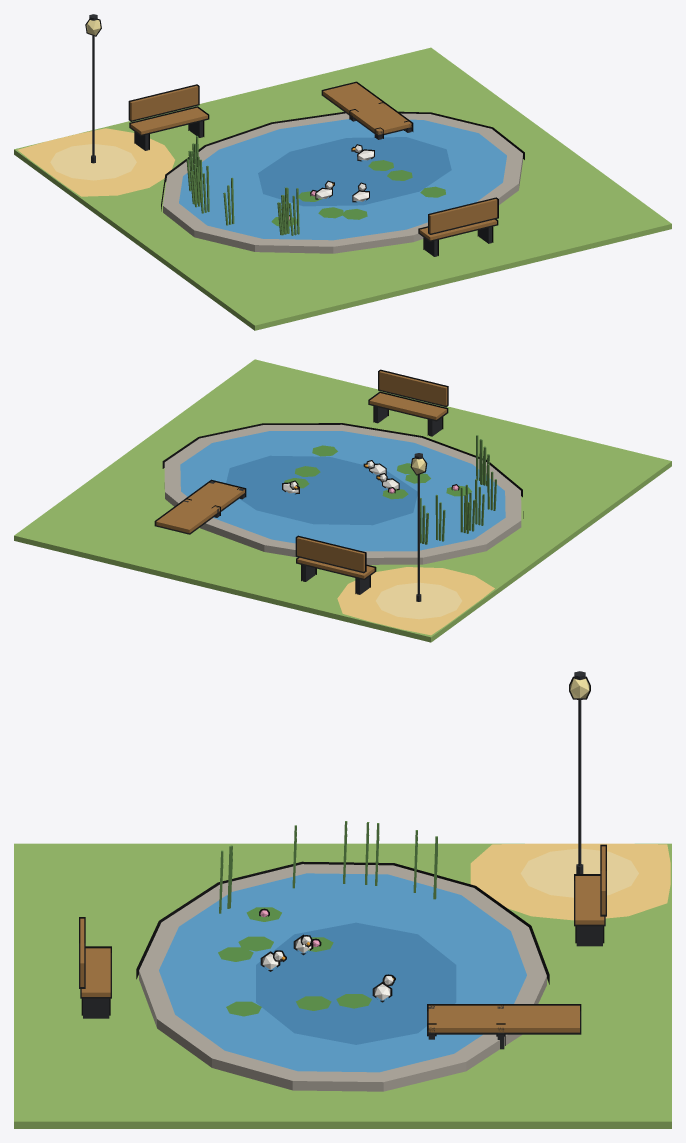
The model's file is Park_gol.fbx.
3 views of the same model, one above another, from view 1: azimuth 30°, elevation 25°; view 2: azimuth 150°, elevation 25°; view 3: azimuth 270°, elevation 25° (orthographic). The views are drawn at different scales.
Visible parts, largest first — view 1: Park_gol; view 2: Park_gol; view 3: Park_gol.
Part boxes in pixels (x1,y1,x2,y2): Park_gol: (14, 14, 671, 330); Park_gol: (14, 359, 671, 642); Park_gol: (14, 671, 671, 1128).
Size of the model in its own units: 10 by 3.48 by 10.
